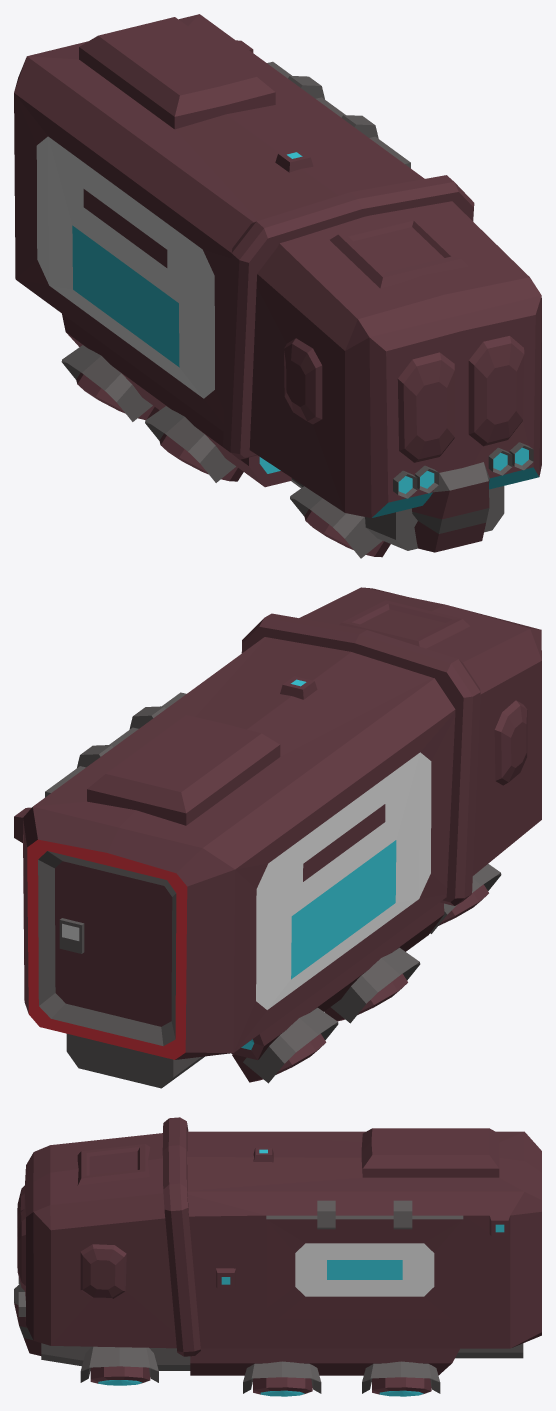
Rendered from scifi-foodtruck-closed.fbx.
3 renders of one model, top to bottom at view 1: azimuth 30°, elevation 25°; view 2: azimuth 150°, elevation 25°; view 3: azimuth 270°, elevation 25°, orthographic. The views are drawn at different scales.
Visible parts, largest first — view 1: scifi-foodtruck-closed; view 2: scifi-foodtruck-closed; view 3: scifi-foodtruck-closed.
Boxes of the visible parts, x1,y1,x2,y2 form: scifi-foodtruck-closed: (14, 14, 541, 558); scifi-foodtruck-closed: (14, 587, 541, 1088); scifi-foodtruck-closed: (14, 1117, 541, 1396).
Bounding box in the file's own units: 2.34 × 3.04 × 6.16.
